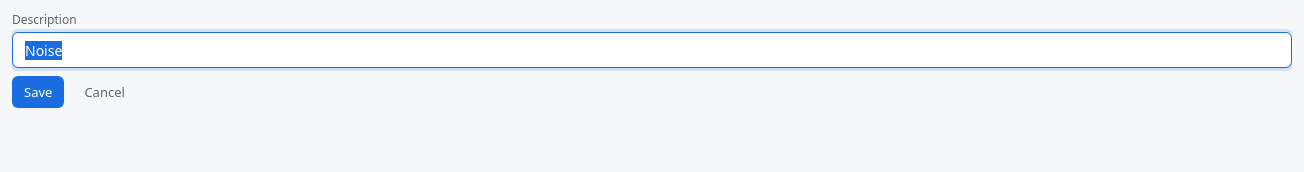
Test: OrderInlineField › imperative save() › resolves false for an empty required field without saving
This screenshot has width=1304, height=172.
Clear the field named "Description": (652, 50) top-left (12, 32), bottom-right (1292, 68)
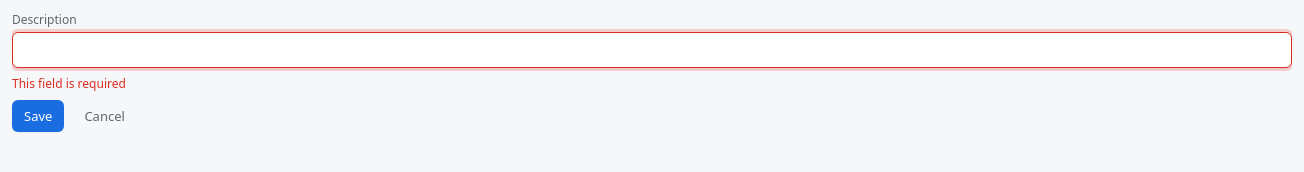
Now the message reads "This field is required", box top-left (12, 75), bottom-right (126, 92)
